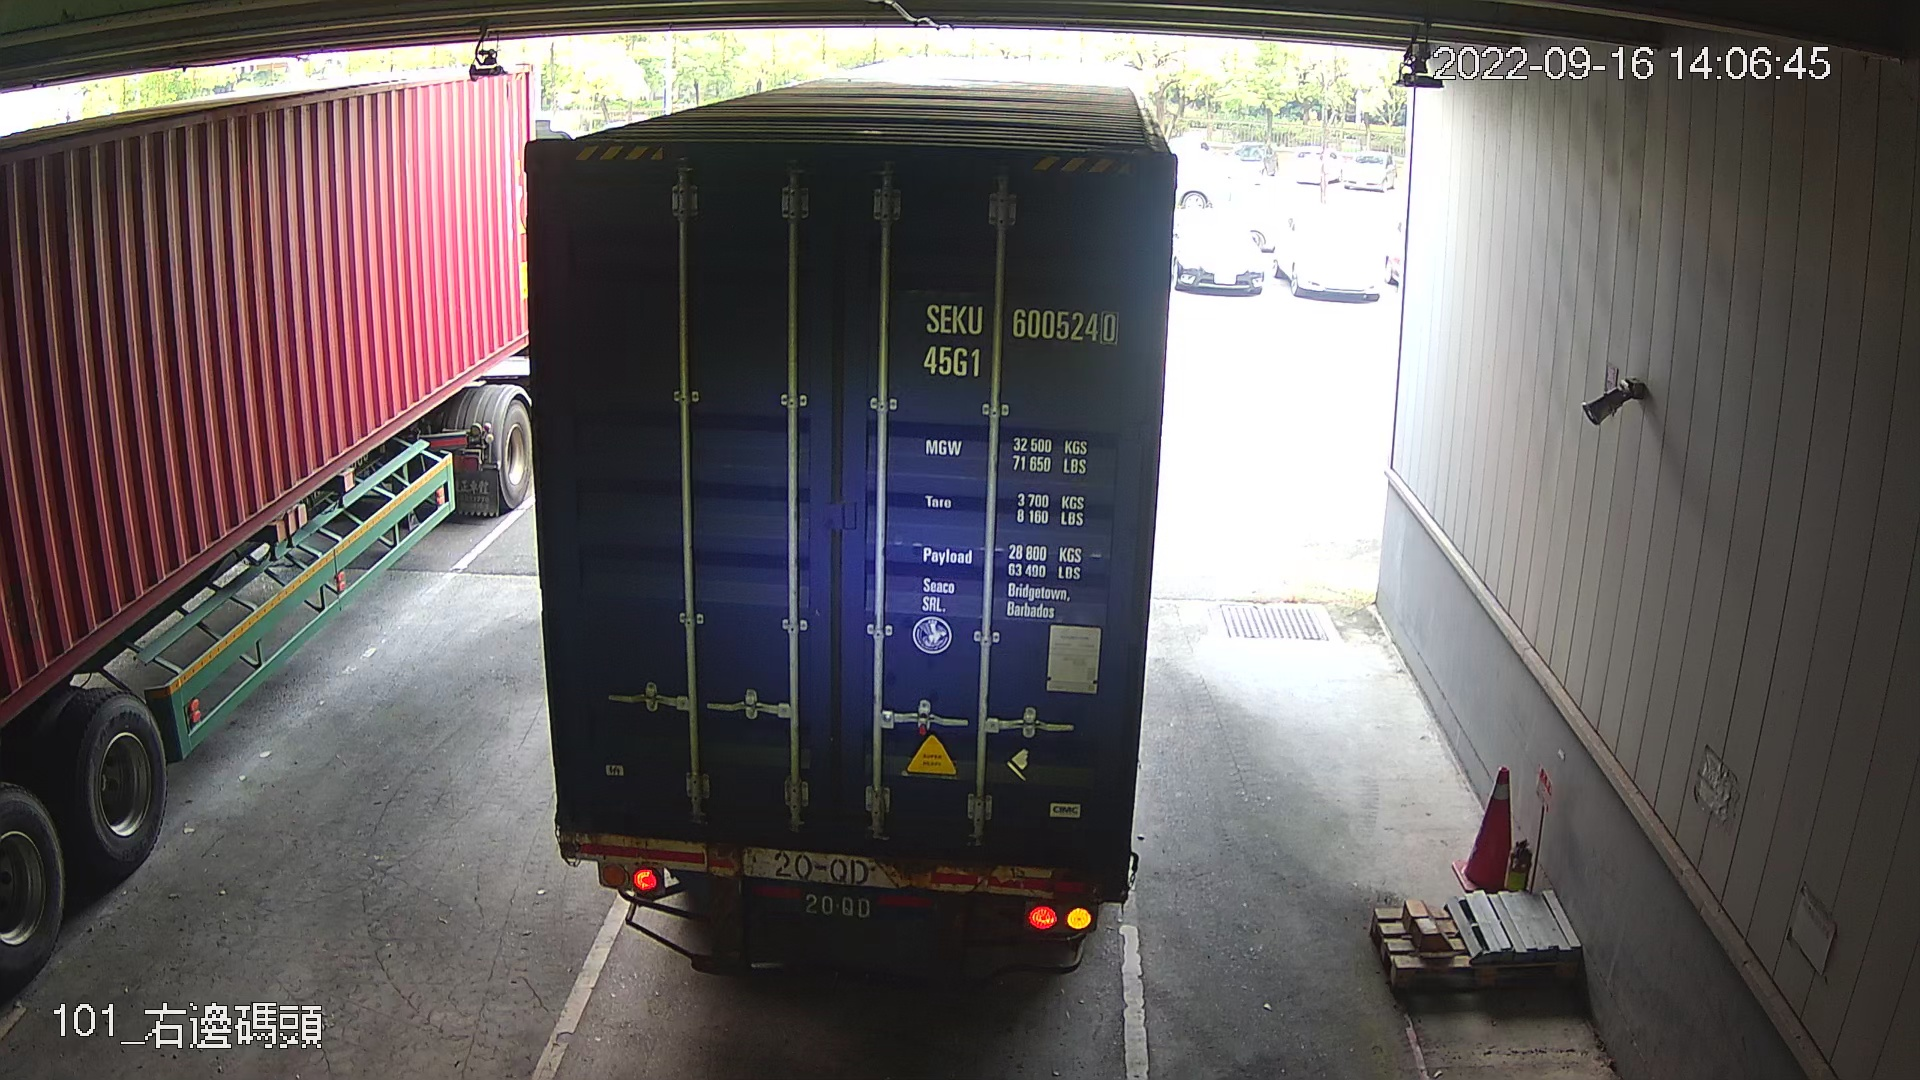container: (914, 294, 1125, 382)
